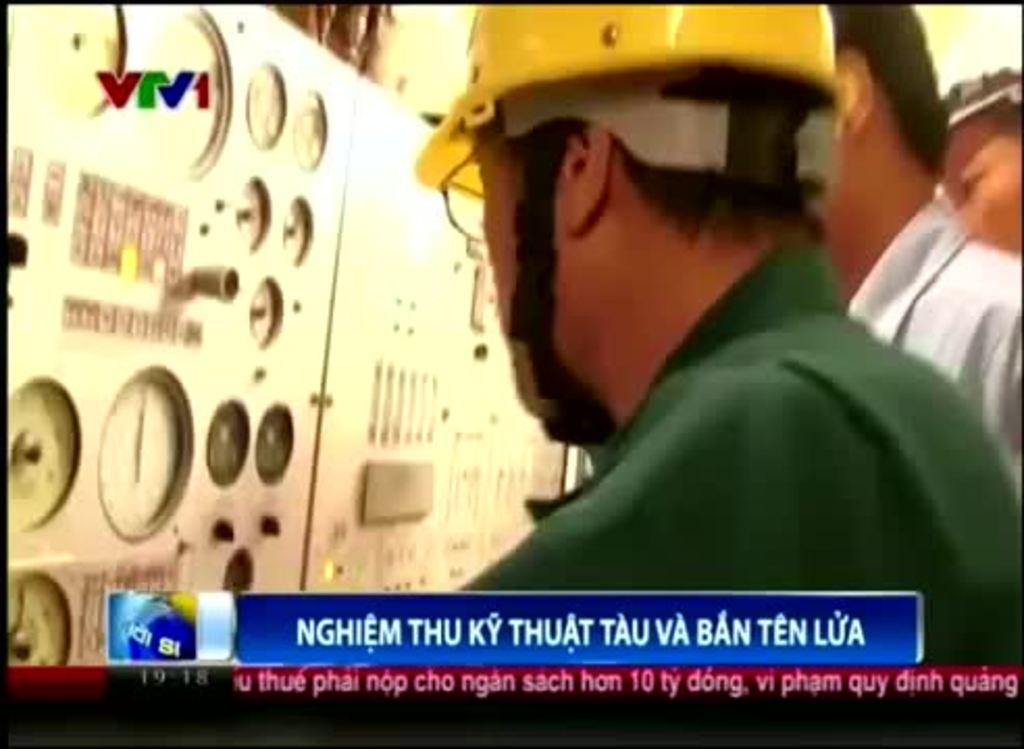helmet: (413, 5, 852, 408)
